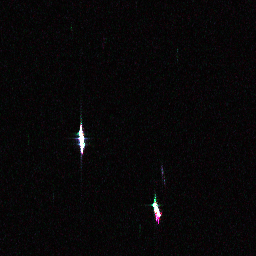ship: (150, 199, 163, 220), (76, 128, 86, 151)
